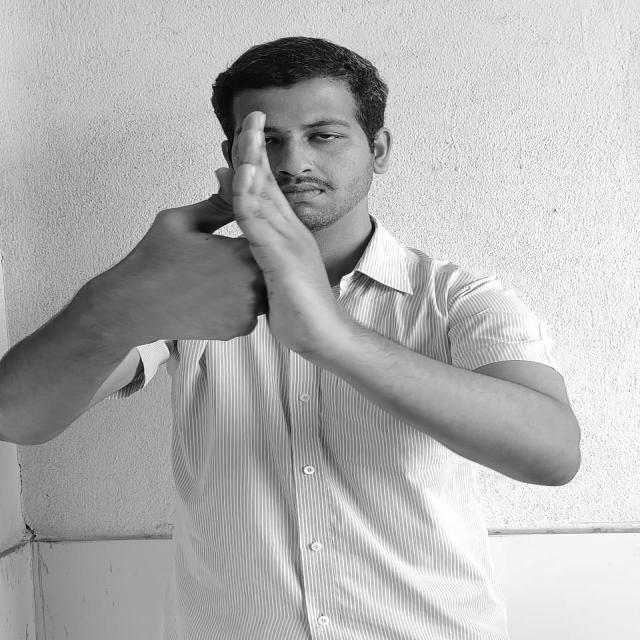Well Done: (129, 109, 334, 372)
